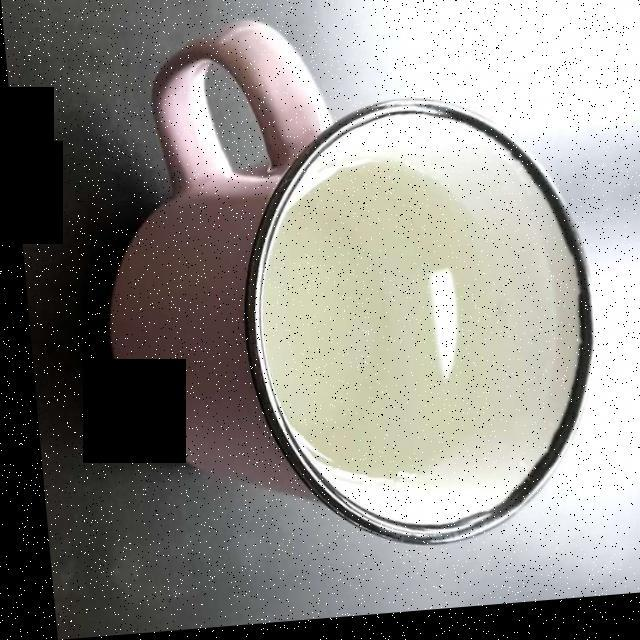water: (259, 172, 551, 491), (269, 159, 510, 483)
